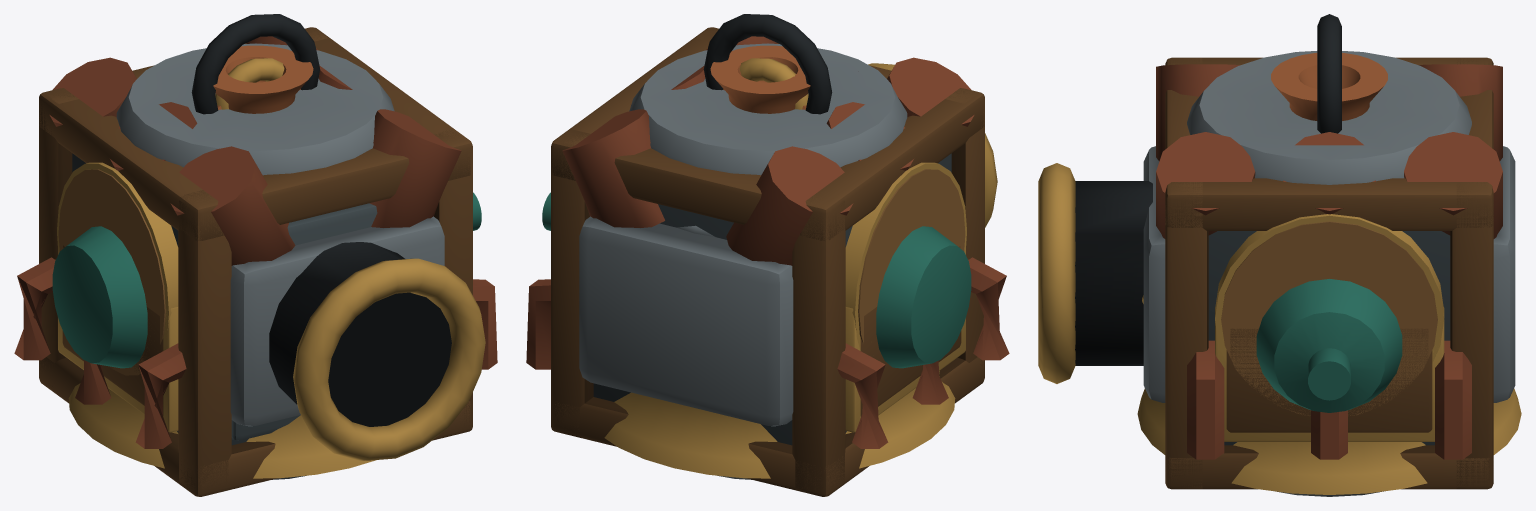
Rendered from cargo.glb.
3 views of the same model, side by side, from view 1: azimuth 30°, elevation 25°; view 2: azimuth 150°, elevation 25°; view 3: azimuth 270°, elevation 25° (orthographic). The views are drawn at different scales.
Parts seen in each view (by area): view 1: engine, crate, core, chest, canister, bell, amphora, safe; view 2: engine, crate, core, bell, chest, canister, amphora, safe; view 3: engine, crate, chest, core, canister, bell, amphora, safe.
Part boxes in pixels (left/top/right/bottom): engine: left=14, top=36, right=497, bottom=460; crate: left=39, top=27, right=472, bottom=496; core: left=116, top=14, right=394, bottom=479; chest: left=57, top=162, right=178, bottom=432; canister: left=52, top=192, right=481, bottom=368; bell: left=68, top=58, right=376, bottom=478; amphora: left=213, top=45, right=313, bottom=113; safe: left=72, top=153, right=377, bottom=445; engine: left=526, top=36, right=1009, bottom=448; crate: left=551, top=27, right=984, bottom=496; core: left=629, top=14, right=907, bottom=479; bell: left=604, top=58, right=955, bottom=478; chest: left=845, top=162, right=966, bottom=432; canister: left=542, top=192, right=971, bottom=368; amphora: left=710, top=45, right=810, bottom=113; safe: left=593, top=153, right=951, bottom=445; engine: left=1038, top=64, right=1515, bottom=459; crate: left=1165, top=57, right=1493, bottom=489; chest: left=1215, top=214, right=1444, bottom=441; core: left=1187, top=14, right=1471, bottom=496; canister: left=1256, top=279, right=1402, bottom=412; bell: left=1137, top=388, right=1521, bottom=494; amphora: left=1271, top=53, right=1387, bottom=120; safe: left=1142, top=231, right=1450, bottom=445.
Size of the model in its own units: 1.52 by 1.6 by 1.56.
